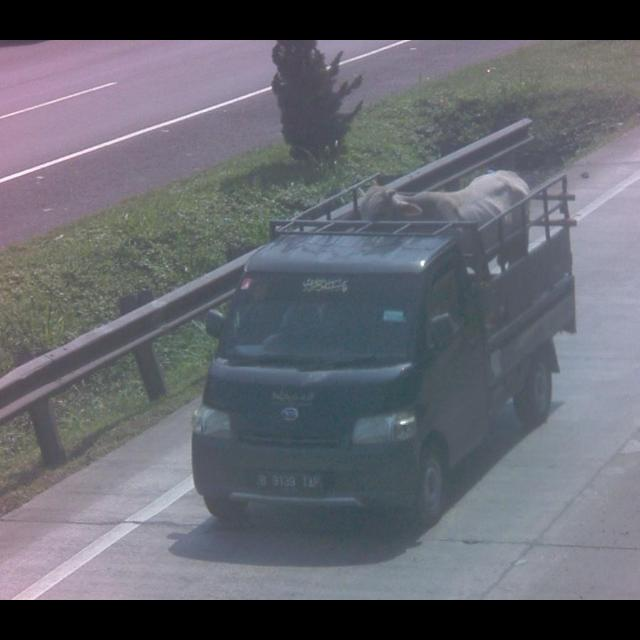plate: (253, 468, 324, 498)
